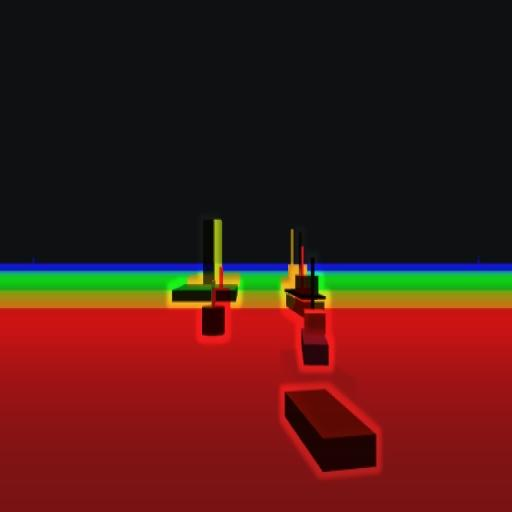fishing_boat: (300, 264, 332, 366)
vessel: (284, 240, 324, 312)
